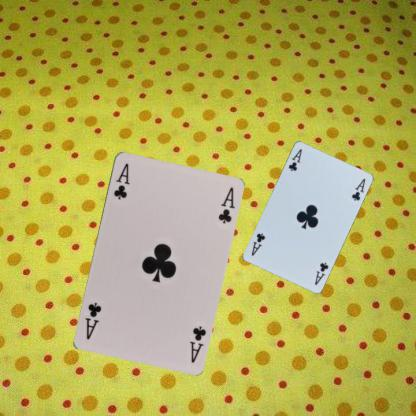Ac: (187, 323, 208, 364), (111, 160, 131, 201), (286, 146, 304, 172), (312, 259, 329, 286)
